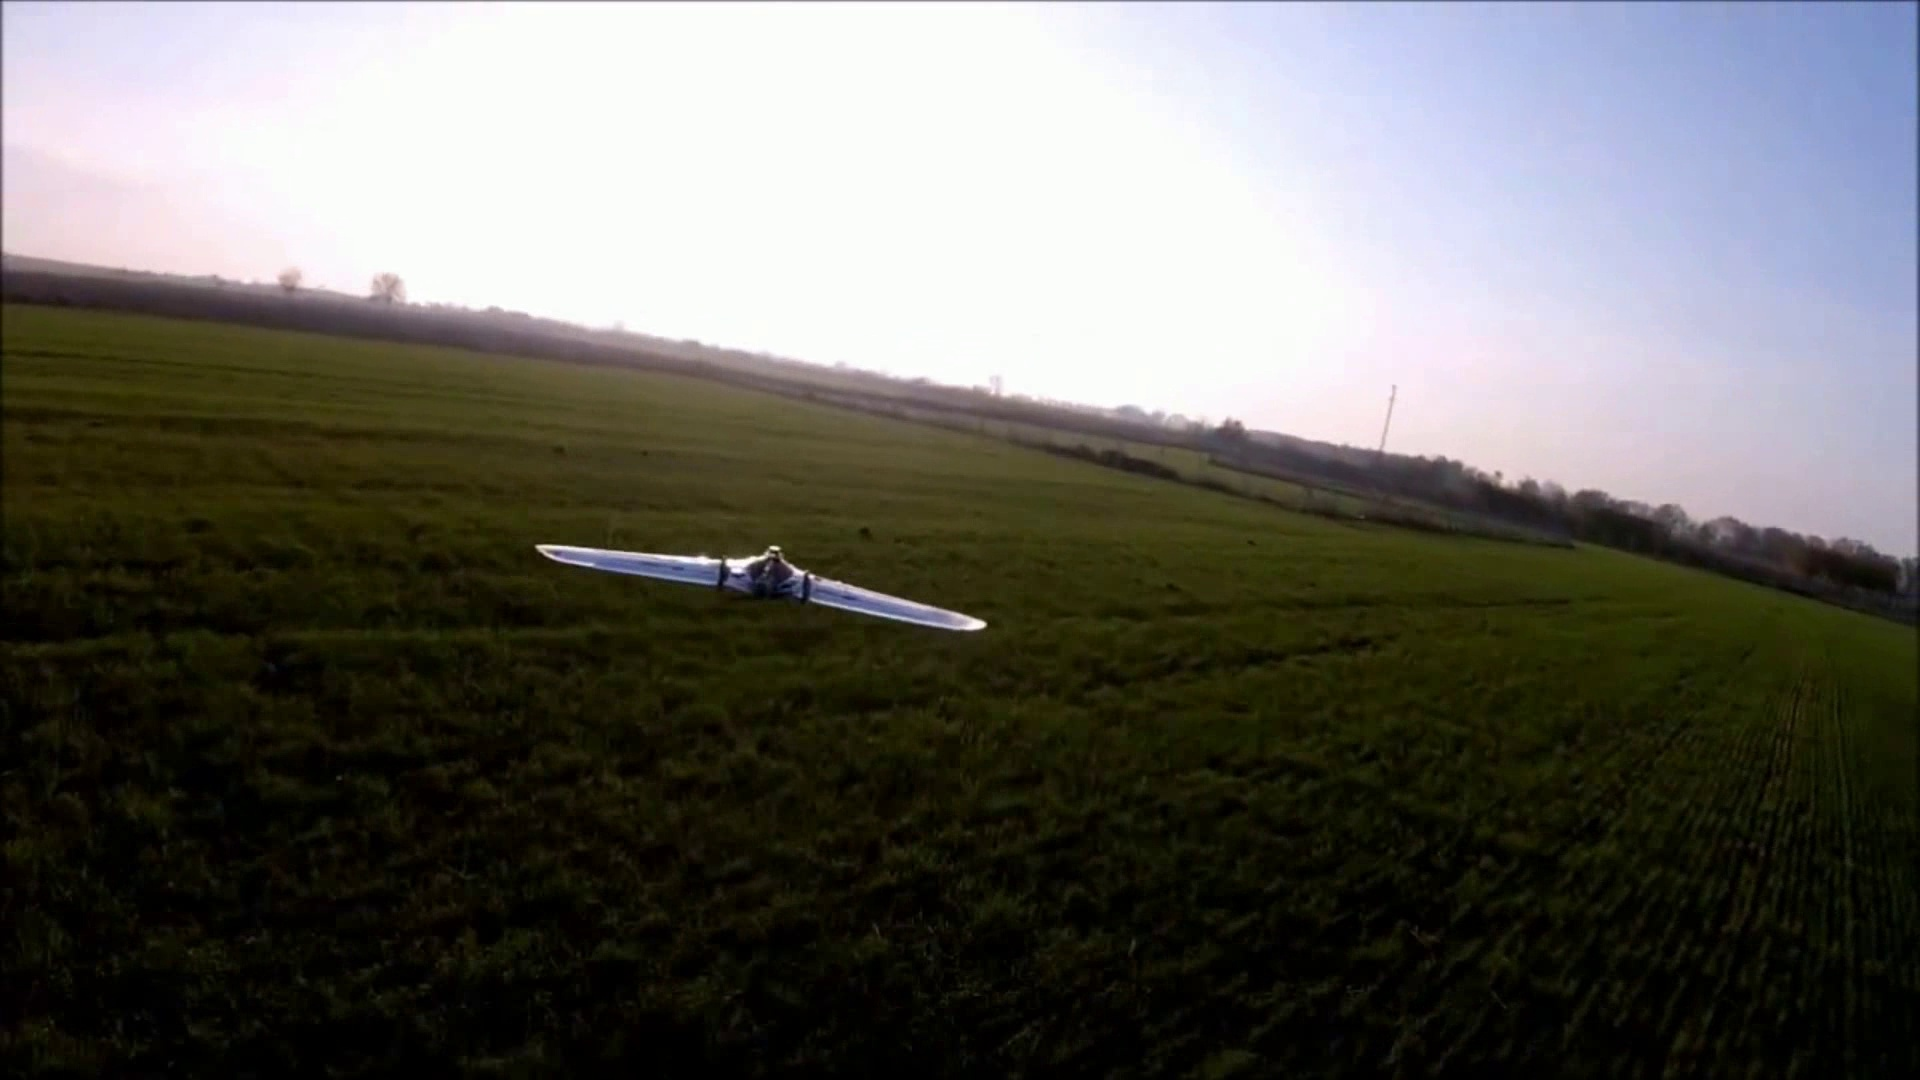airplane: (537, 543, 987, 635)
